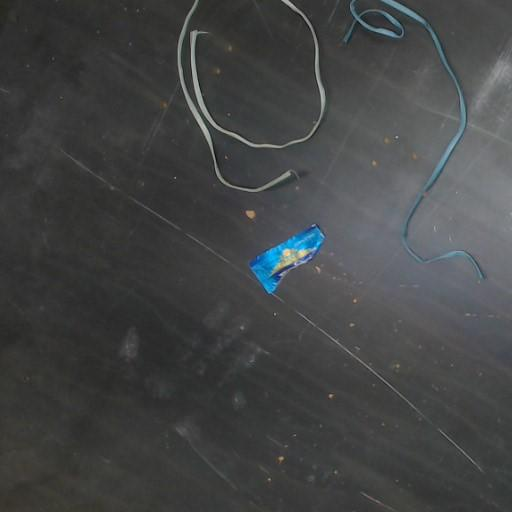conveyor belt: (191, 0, 319, 141)
packet: (251, 225, 324, 293)
thread: (375, 0, 483, 278), (177, 0, 326, 192), (343, 0, 403, 42)
